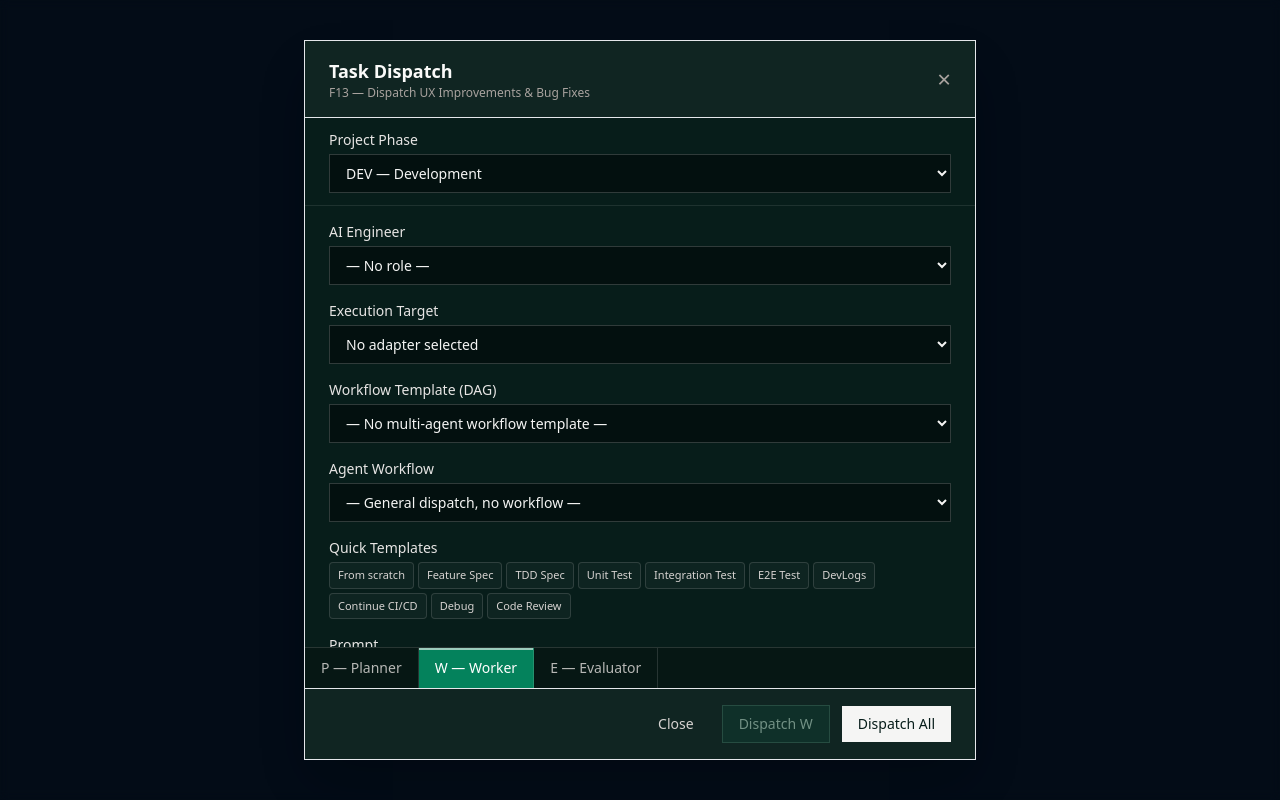
Test: TaskDispatchModal [kill confirmation] › transitions running to done when the agent exits cleanly
This screenshot has width=1280, height=800.
Select "Claude Code" in the dropdown below "Execution Target": [640, 344] box x1=329 y1=325 x2=951 y2=364
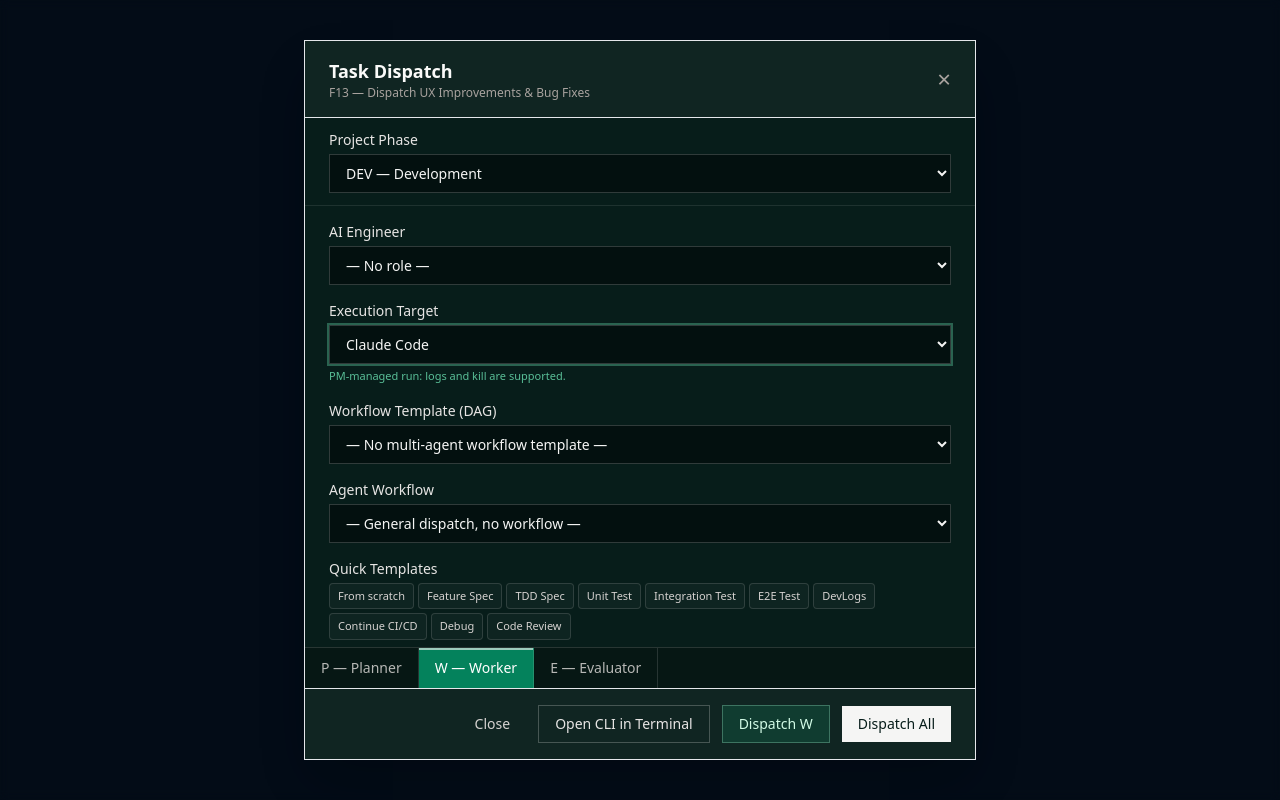
Click the button "Dispatch W": [776, 724] box x1=722 y1=705 x2=830 y2=743
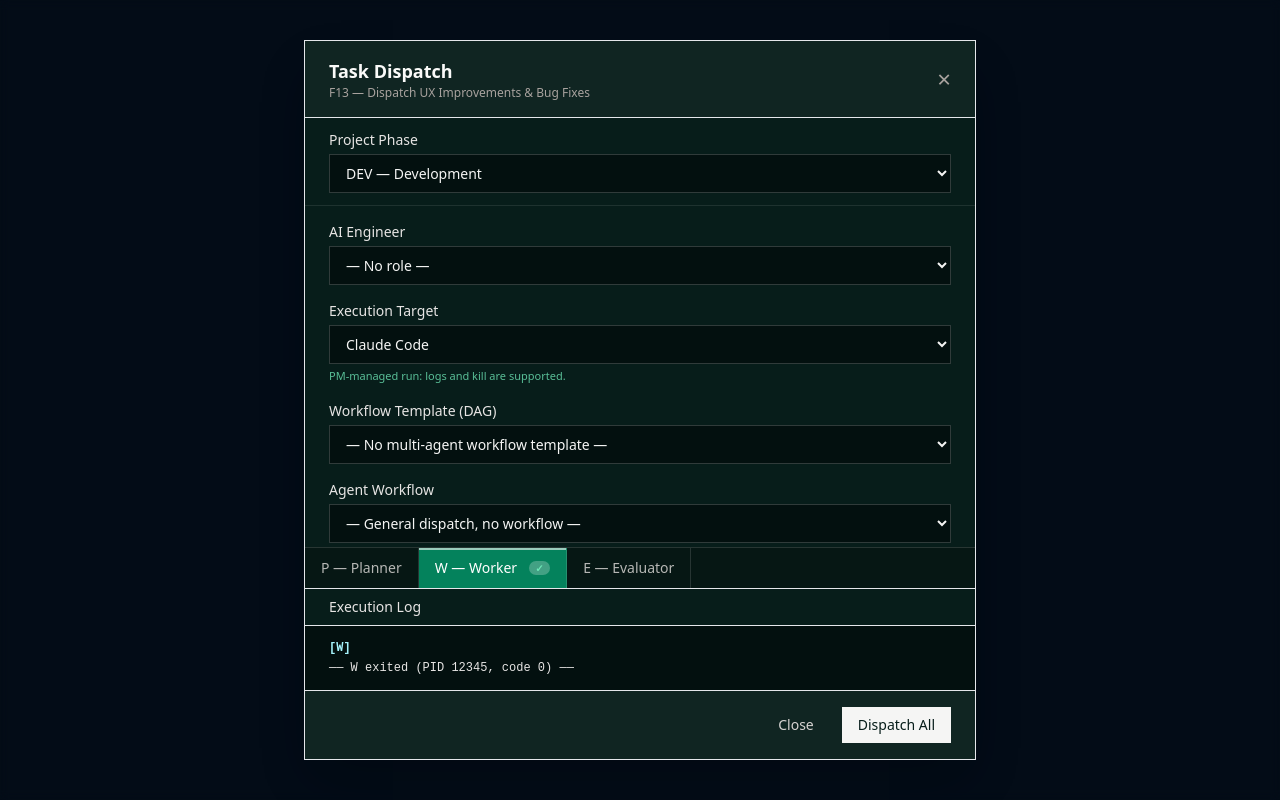
Check: the text "Execution Log" is shown, box x1=329 y1=597 x2=421 y2=617
Check: the text "── W exited (PID 12345, code 0) ──" is shown, box x1=329 y1=661 x2=574 y2=675
